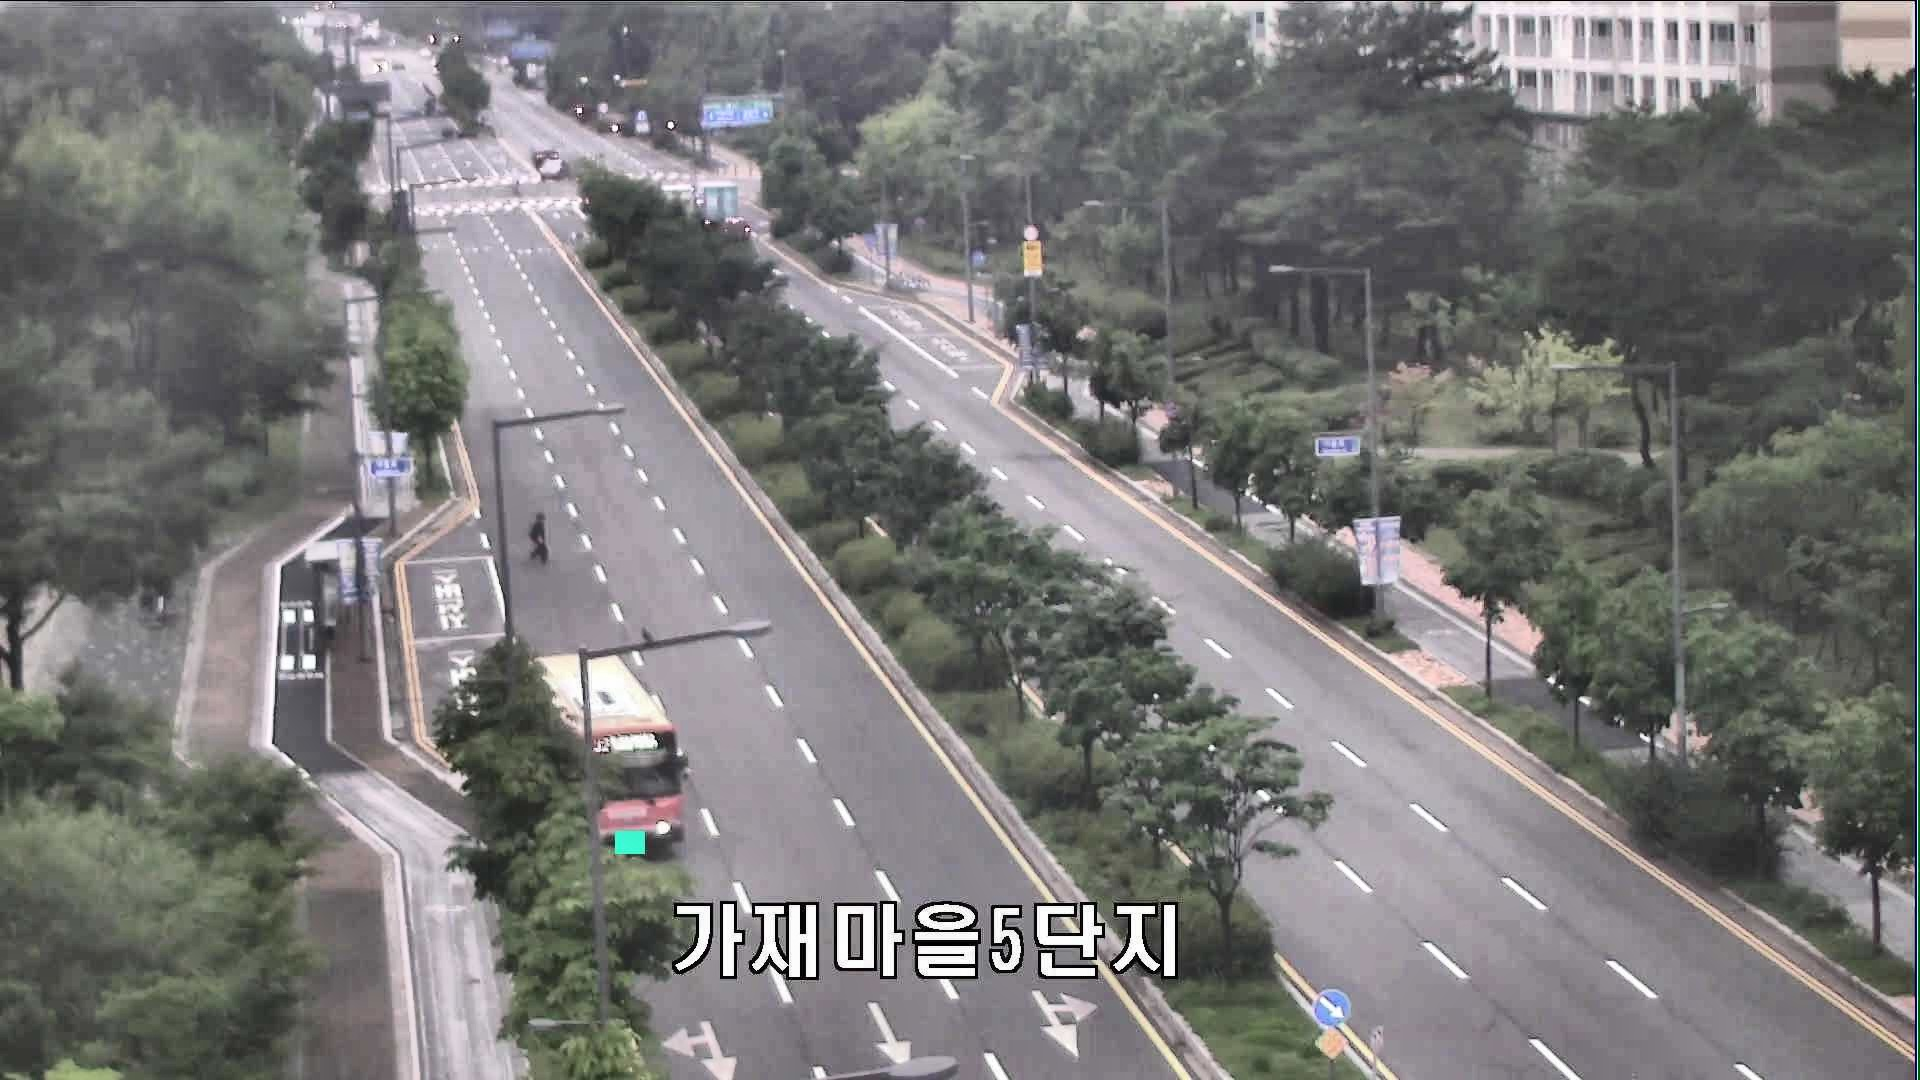jaywalk: (527, 510, 549, 568)
